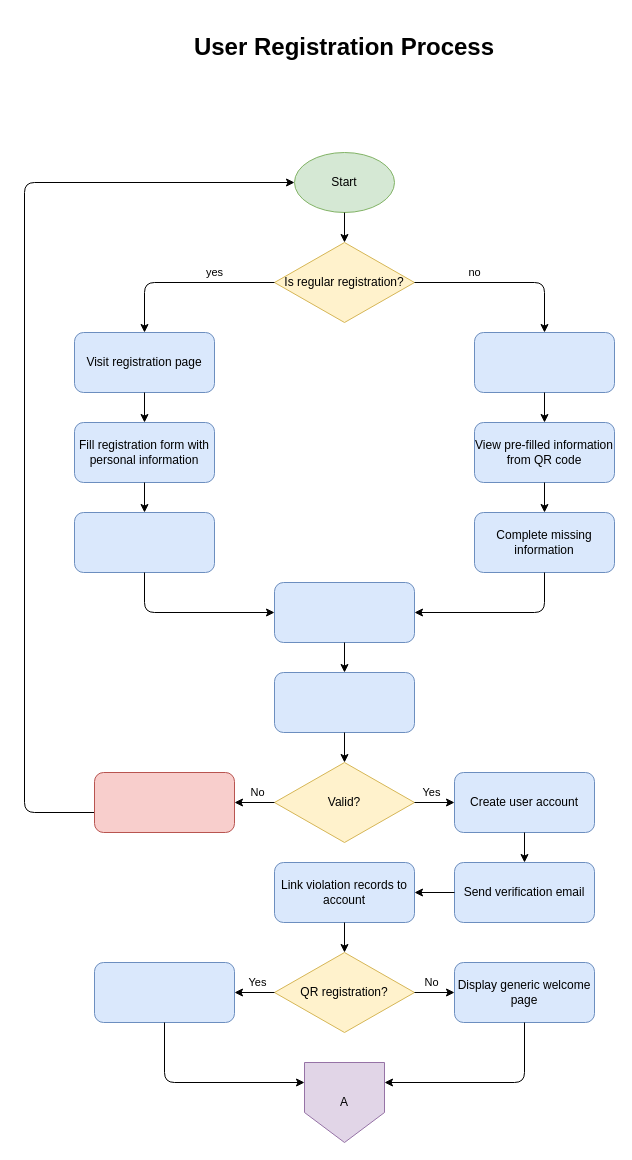
Some shapes in this 632 by 1160 pixel diagram are drawn without their labels. The centre of each missing label's shape, as x and y in pixels:
Display error messages: the point at 164,802
Enter email and password: the point at 144,542
link violations: the point at 164,992
Scan QR code from violation ticket: the point at 544,362
Submit registration: the point at 344,612
System validates registration information: the point at 344,702
